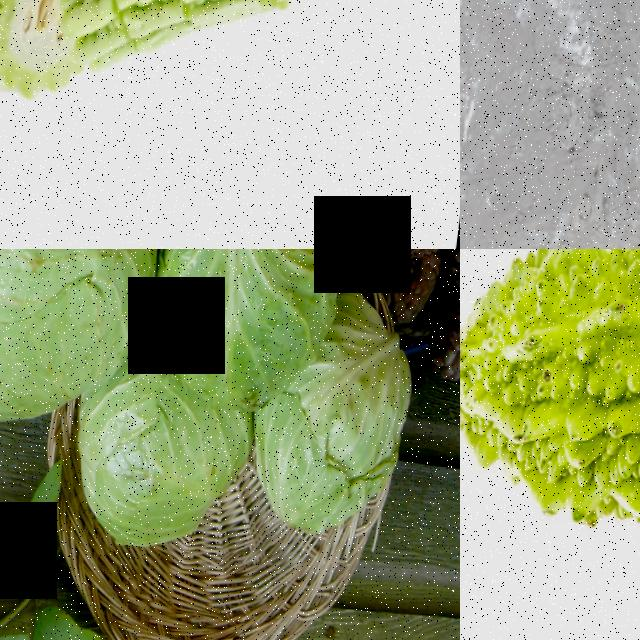bitter gourd: (460, 249, 640, 541), (78, 0, 260, 124), (0, 0, 80, 125)
cabbage: (58, 388, 241, 548), (156, 249, 339, 386), (0, 249, 150, 379), (298, 369, 403, 526)
